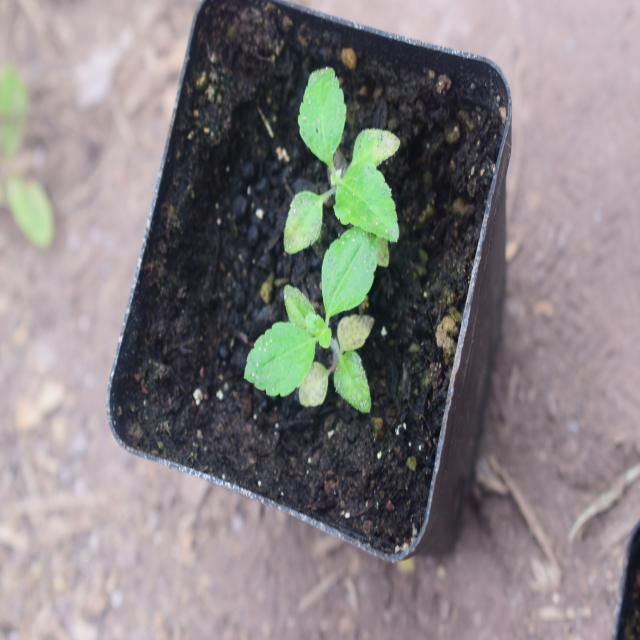billygoat_weed: (247, 236, 396, 434), (284, 82, 406, 274)
